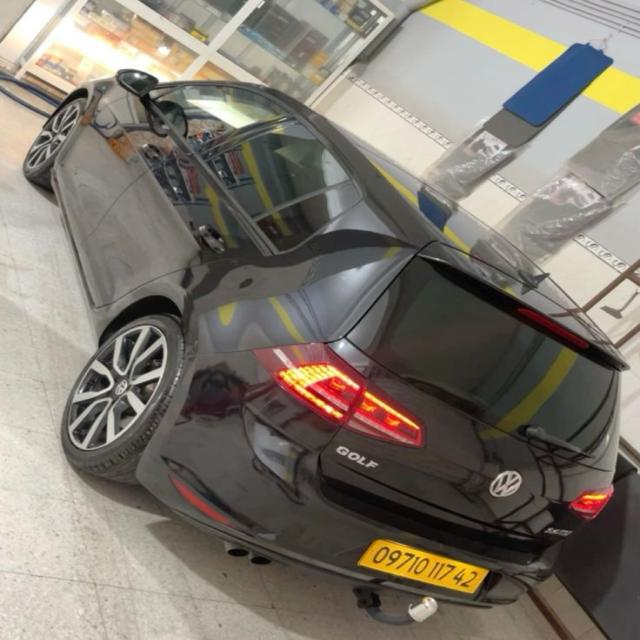Placas: (343, 536, 492, 600)
